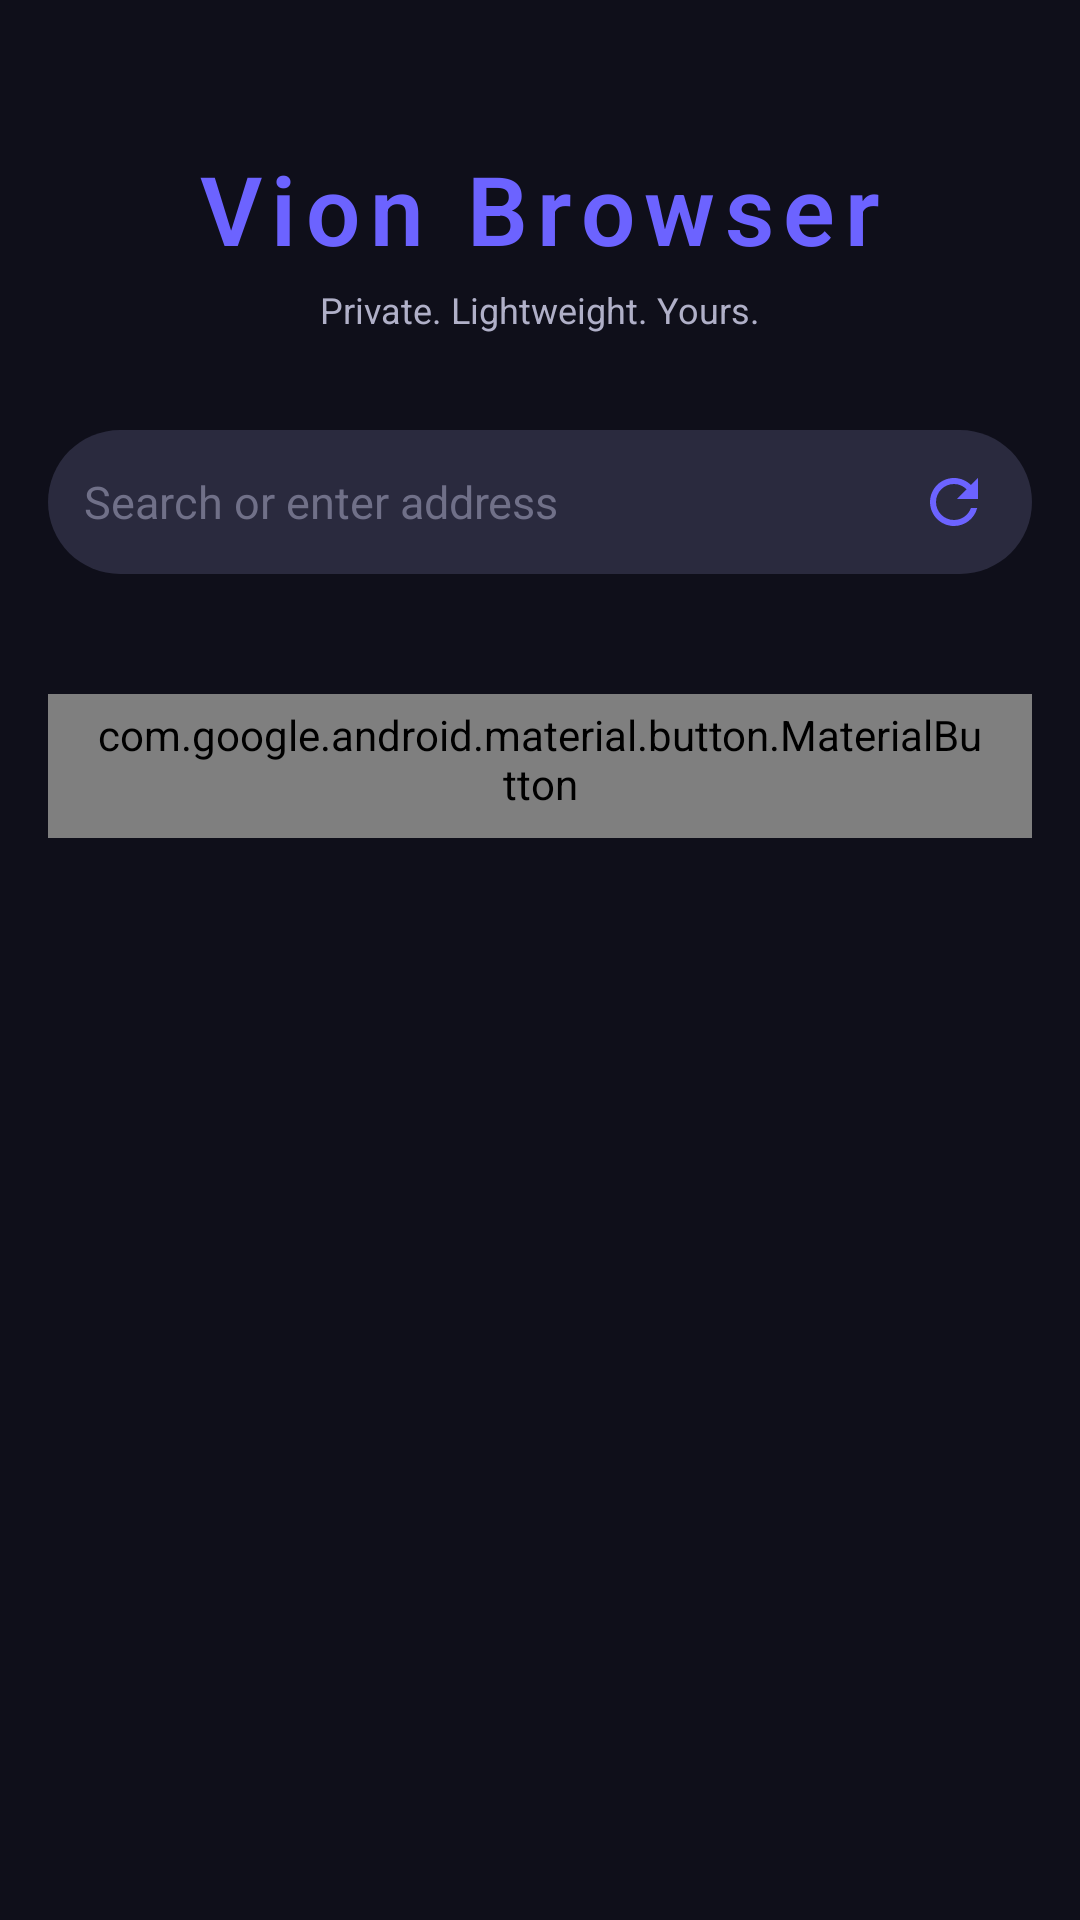

Screen size 1080x1920. Icon name, then its center in pixels as point (x, y):
Refresh: point (954, 502)
